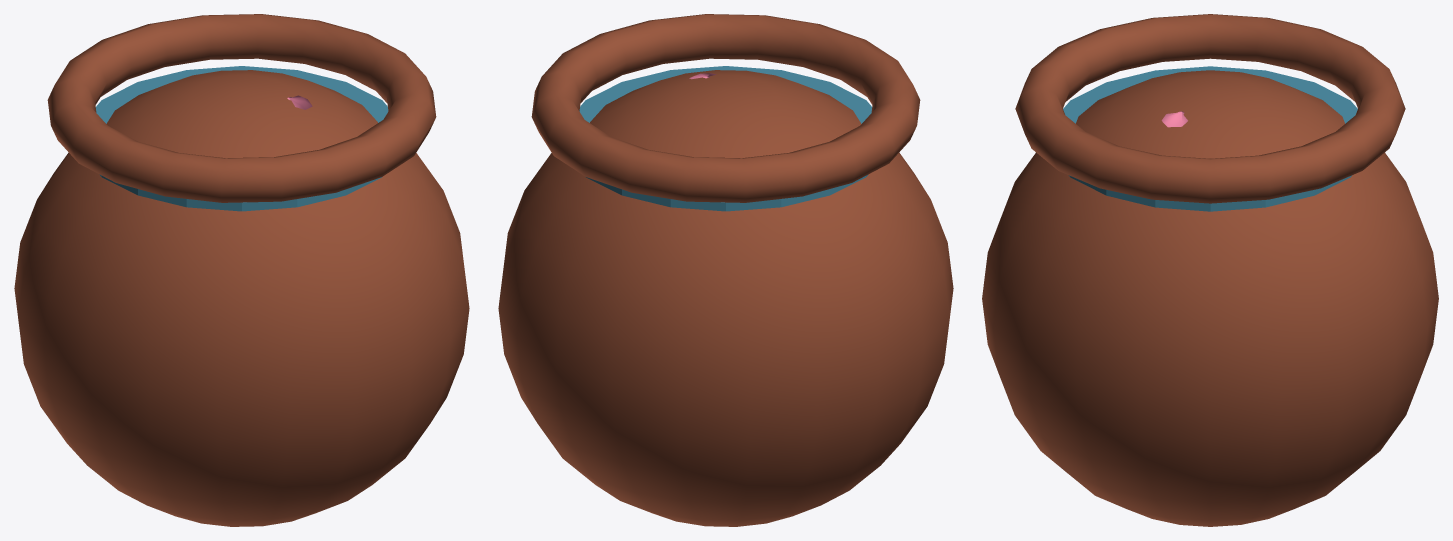
Rendered from chum_sanh_hoa_sen.obj.
The picture shows the model from 3 angles, left to right: view 1: azimuth 30°, elevation 25°; view 2: azimuth 150°, elevation 25°; view 3: azimuth 270°, elevation 25°; orthographic projection.
Size of the model in its own units: 0.48 by 0.485 by 0.48.
